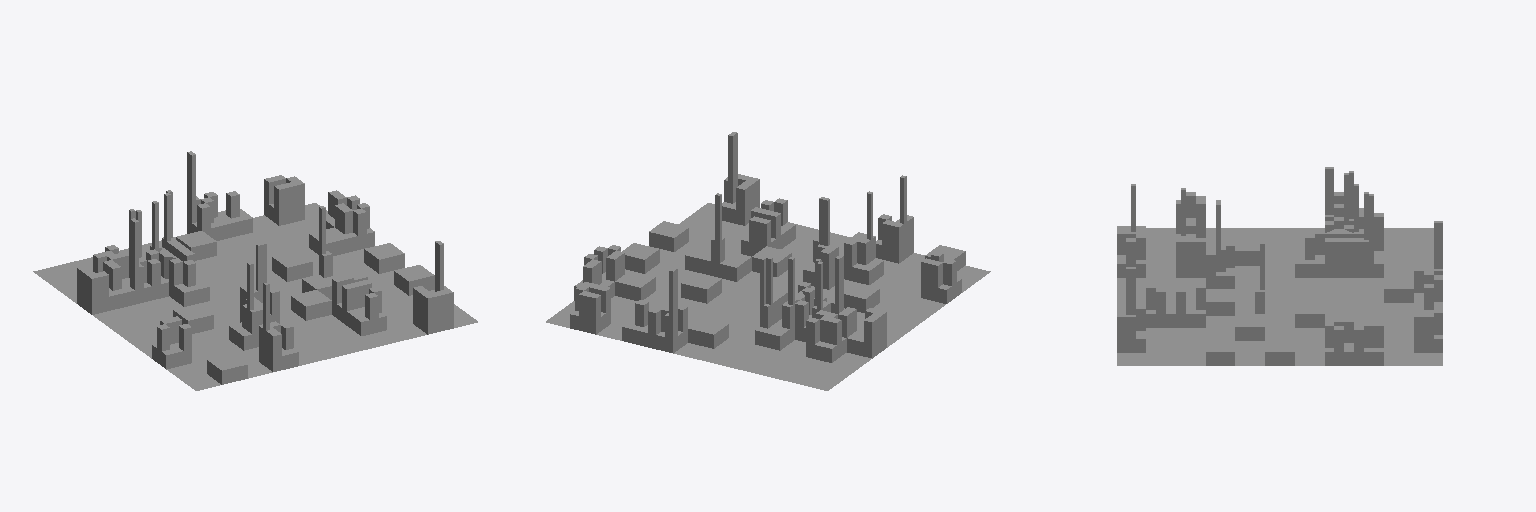
Rendered from environment.obj.
3 views of the same model, side by side, from view 1: azimuth 30°, elevation 25°; view 2: azimuth 150°, elevation 25°; view 3: azimuth 270°, elevation 25° (orthographic).
Parts seen in each view (by area): view 1: Plane; view 2: Plane; view 3: Plane.
Boxes of the visible parts, x1,y1,x2,y2 form: Plane: [33, 151, 477, 390]; Plane: [546, 132, 990, 390]; Plane: [1117, 167, 1442, 365].
Bounding box in the file's own units: 23.48 × 6.49 × 23.48.